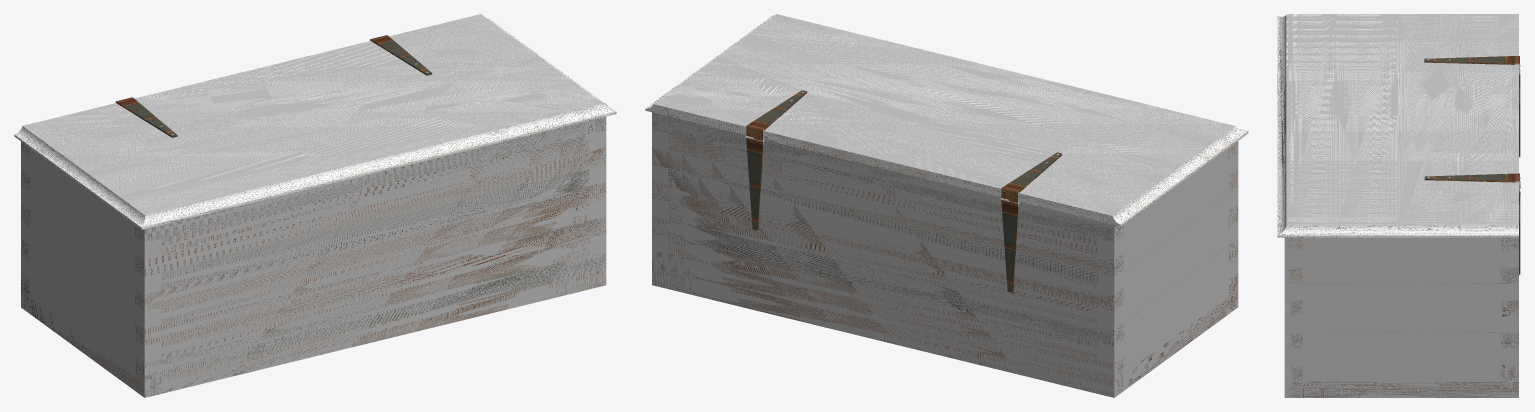
3 views of the same model, side by side, from view 1: azimuth 30°, elevation 25°; view 2: azimuth 150°, elevation 25°; view 3: azimuth 270°, elevation 25° (orthographic). The views are drawn at different scales.
Visible parts, largest first — view 1: mesh32_mesh32-geometry; view 2: mesh32_mesh32-geometry, mesh17_mesh17-geometry, mesh3_mesh3-geometry; view 3: mesh32_mesh32-geometry.
Boxes of the visible parts, <box> form: mesh32_mesh32-geometry: <box>14,14,616,397</box>; mesh32_mesh32-geometry: <box>645,14,1248,397</box>; mesh17_mesh17-geometry: <box>746,137,763,230</box>; mesh3_mesh3-geometry: <box>1001,199,1018,292</box>; mesh32_mesh32-geometry: <box>1277,14,1519,397</box>.
Bounding box in the file's own units: 0.8591 × 0.316 × 0.4025.
